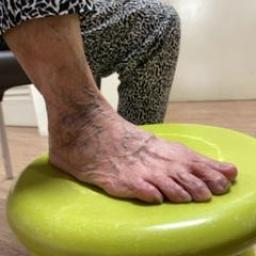Lateral View -Right Foot-: (26, 65, 248, 227)
